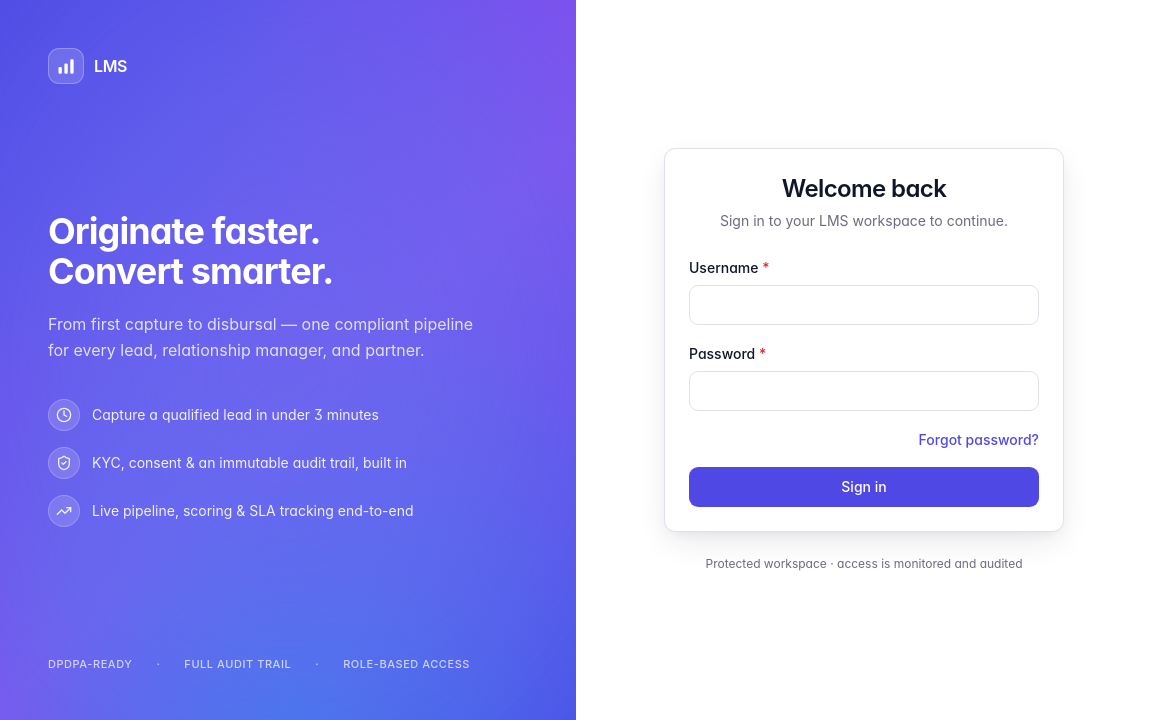
LoginPage › transitions to the OTP view when MFA is required (UI-005)
Type "rm-user" into the field labelled "Username *" at {"x": 864, "y": 305}, box [689, 285, 1039, 325]
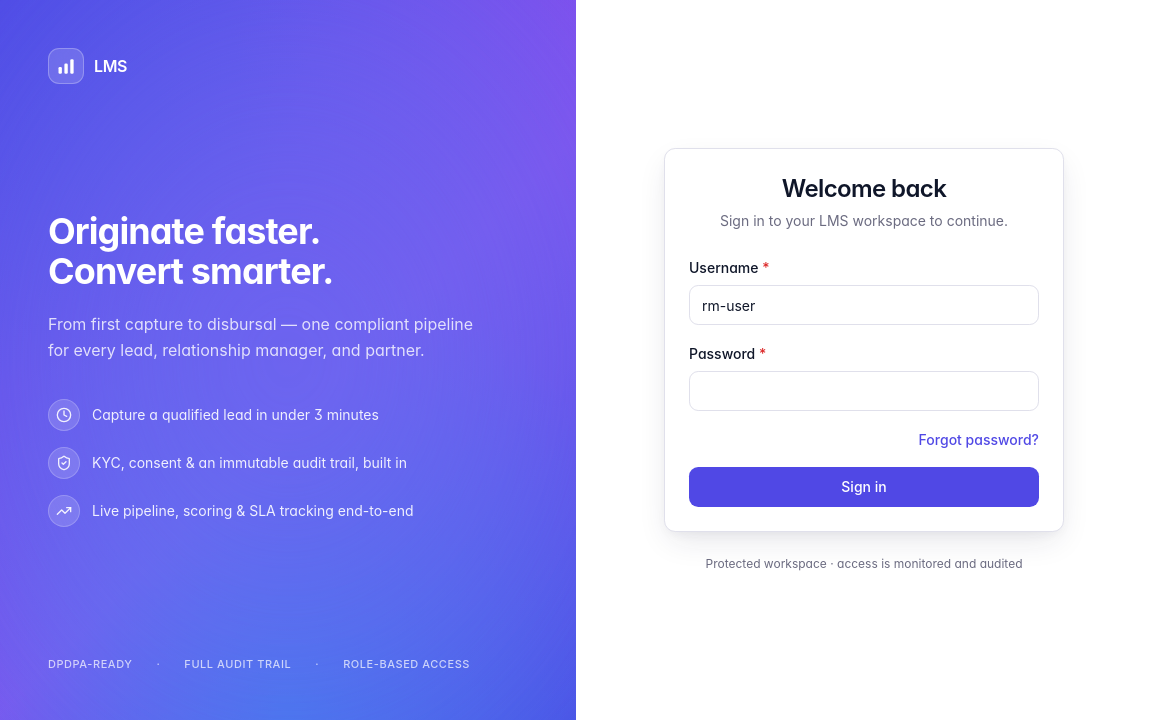
Type "pw" into the password field labelled "Password *" at {"x": 864, "y": 391}, box [689, 371, 1039, 411]
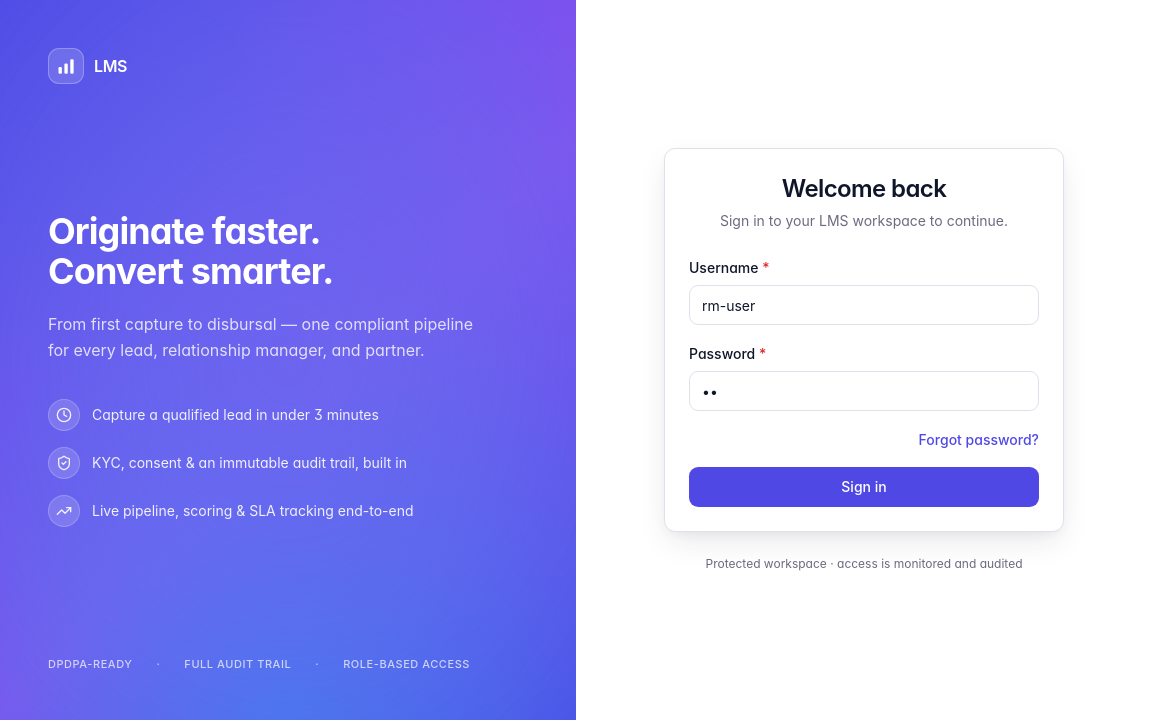
Click the button "Sign in" at {"x": 864, "y": 487}, box [689, 467, 1039, 507]
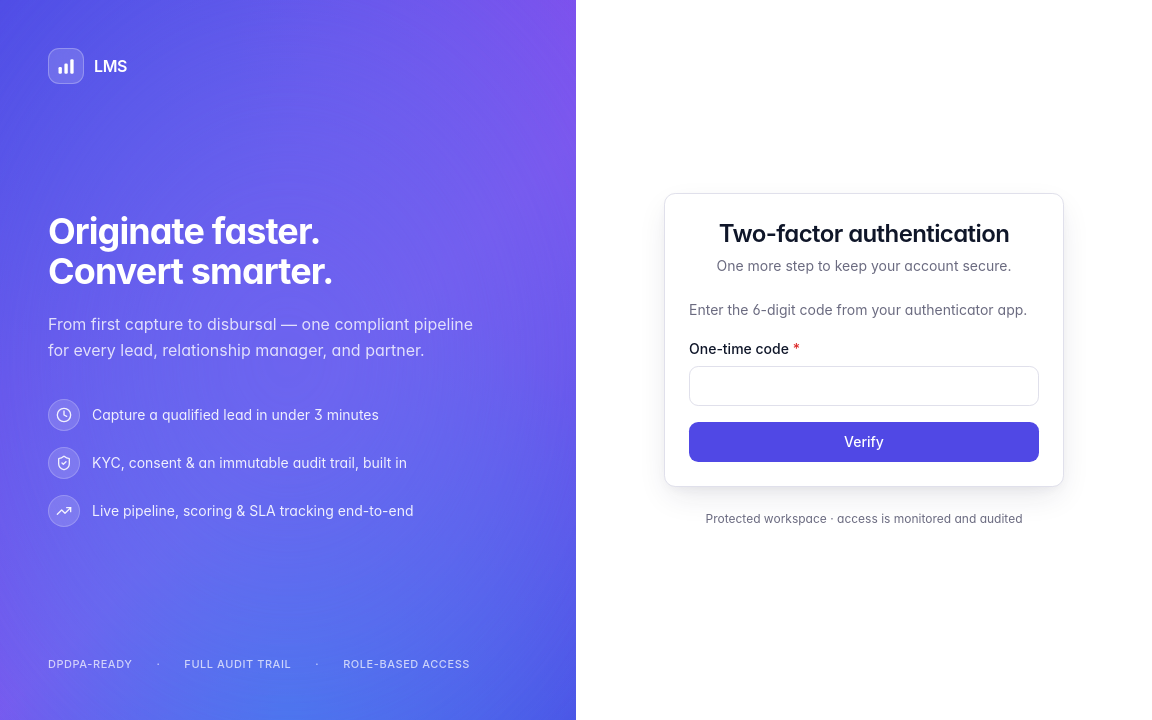
Result: the text "Enter the 6-digit code from your authenticator app." is shown at [689, 300, 1039, 320]
Result: the field labelled "One-time code *" is shown at [689, 366, 1039, 406]
